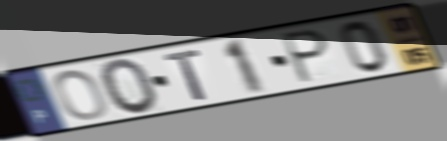0: (337, 18, 392, 76)
1: (223, 36, 272, 98)
O: (98, 56, 161, 117), (51, 68, 110, 122)
P: (280, 27, 332, 86)
T: (161, 47, 211, 103)
